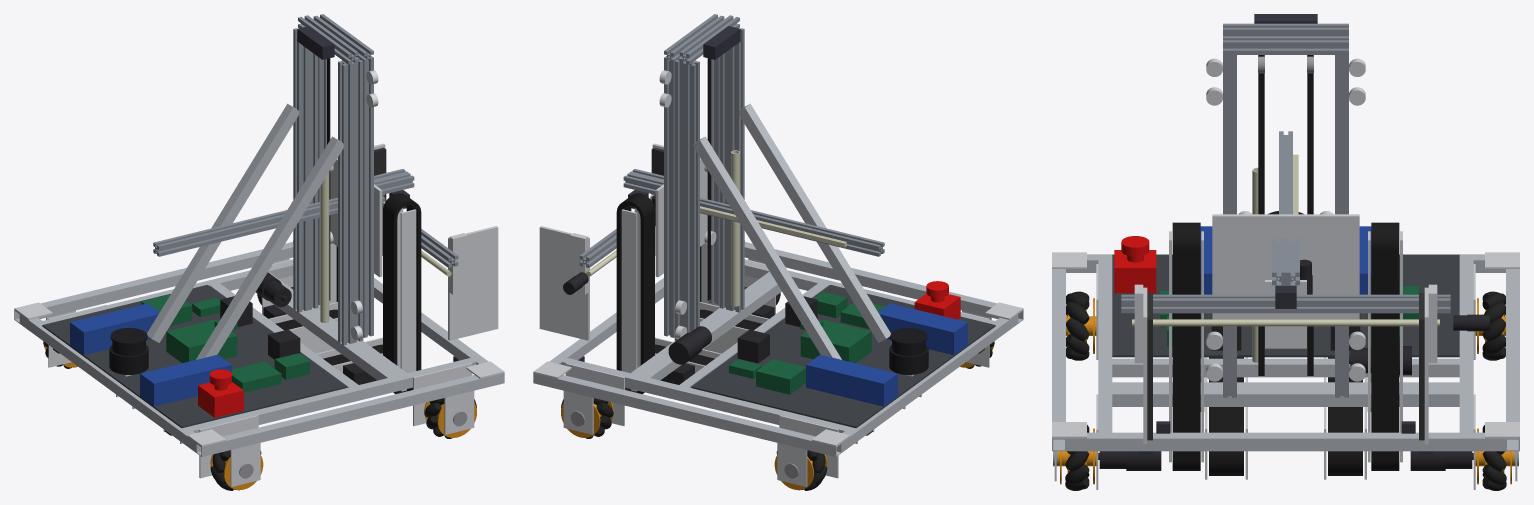
File: BR-C_awal.glb
3 renders of one model, left to right at view 1: azimuth 30°, elevation 25°; view 2: azimuth 150°, elevation 25°; view 3: azimuth 270°, elevation 25°, orthographic. The views are drawn at different scales.
Parts seen in each view (by area): view 1: dek_elektronik, tiang_lift_t0_2, tiang_lift_t0, dek_samping_kanan, jari_jepit_2, penguat_tiang_2, penguat_tiang, flipper_kanan, dek_samping_kiri, rel_dalam_kanan, tiang_lift_t1_2, lengan_flipper_3 (+32 smaller); view 2: dek_elektronik, tiang_lift_t0, tiang_lift_t0_2, dek_samping_kiri, jari_jepit, penguat_tiang, penguat_tiang_2, flipper_kiri, rel_dalam_kiri, baterai_6S, dek_samping_kanan, tiang_lift_t1 (+32 smaller); view 3: carriage, dek_depan, dek_elektronik, palang_tiang, flipper_kiri, flipper_kanan, rel_jepit, palang_3, tiang_lift_t1, tiang_lift_t1_2, rel_dalam_kanan, tiang_lift_t1_atas (+41 smaller).
Boxes of the visible parts, bbox=[...] form: dek_elektronik: bbox=[42, 285, 346, 428]; tiang_lift_t0_2: bbox=[338, 57, 363, 345]; tiang_lift_t0: bbox=[293, 28, 318, 312]; dek_samping_kanan: bbox=[196, 373, 504, 456]; jari_jepit_2: bbox=[448, 226, 498, 340]; penguat_tiang_2: bbox=[196, 136, 343, 359]; penguat_tiang: bbox=[147, 103, 299, 342]; flipper_kanan: bbox=[383, 193, 421, 394]; dek_samping_kiri: bbox=[14, 242, 293, 323]; rel_dalam_kanan: bbox=[188, 358, 476, 432]; tiang_lift_t1_2: bbox=[363, 60, 373, 337]; lengan_flipper_3: bbox=[400, 209, 416, 391]; dek_elektronik: bbox=[691, 285, 995, 428]; tiang_lift_t0: bbox=[674, 57, 699, 340]; tiang_lift_t0_2: bbox=[719, 28, 744, 312]; dek_samping_kiri: bbox=[533, 373, 841, 456]; jari_jepit: bbox=[539, 226, 589, 340]; penguat_tiang: bbox=[692, 136, 841, 359]; penguat_tiang_2: bbox=[739, 103, 890, 342]; flipper_kiri: bbox=[616, 193, 654, 394]; rel_dalam_kiri: bbox=[561, 358, 849, 432]; baterai_6S: bbox=[806, 354, 897, 406]; dek_samping_kanan: bbox=[744, 242, 1023, 323]; tiang_lift_t1: bbox=[664, 60, 674, 337]; carriage: bbox=[1212, 214, 1359, 319]; dek_depan: bbox=[1066, 432, 1505, 451]; dek_elektronik: bbox=[1112, 254, 1459, 357]; palang_tiang: bbox=[1112, 382, 1459, 406]; flipper_kiri: bbox=[1371, 222, 1399, 470]; flipper_kanan: bbox=[1172, 222, 1200, 470]; rel_jepit: bbox=[1121, 294, 1450, 313]; palang_3: bbox=[1112, 358, 1459, 377]; tiang_lift_t1: bbox=[1335, 55, 1348, 397]; tiang_lift_t1_2: bbox=[1223, 55, 1236, 397]; rel_dalam_kanan: bbox=[1098, 260, 1112, 432]; tiang_lift_t1_atas: bbox=[1223, 36, 1348, 54].
Size of the model in its own units: 685 by 692 by 668.
